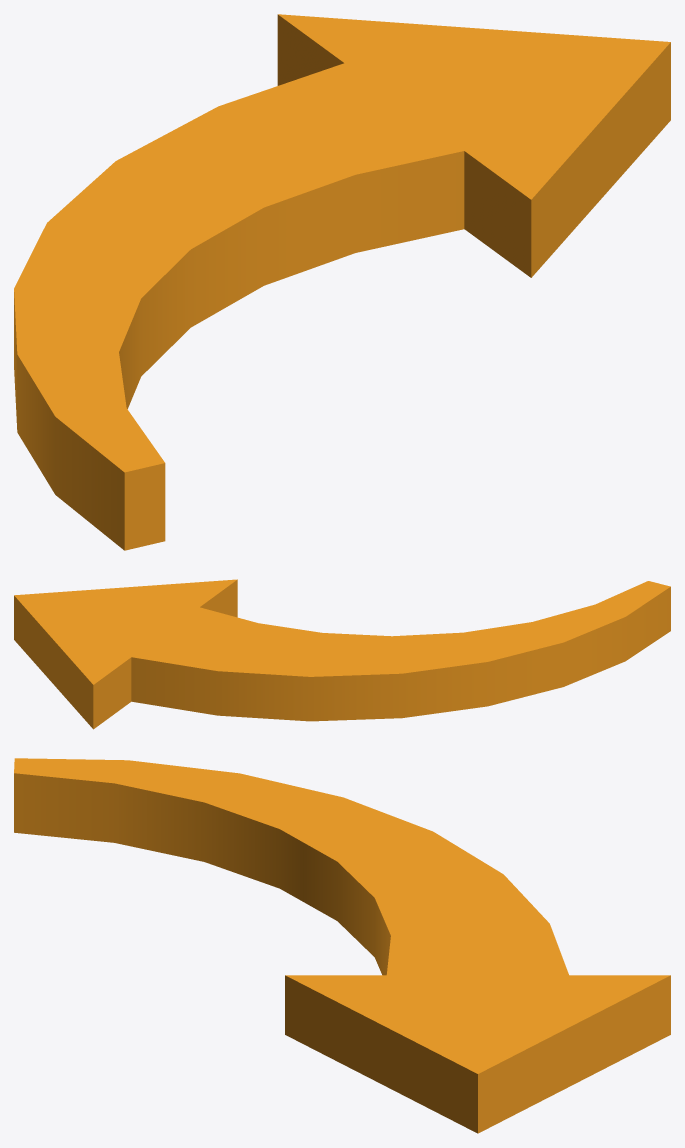
Rendered from SM_Icon_Arrow_Long_Curve_01.fbx.
3 views of the same model, one above another, from view 1: azimuth 30°, elevation 25°; view 2: azimuth 150°, elevation 25°; view 3: azimuth 270°, elevation 25° (orthographic). The views are drawn at different scales.
Parts seen in each view (by area): view 1: SM_Icon_Arrow_Long_Curve_01; view 2: SM_Icon_Arrow_Long_Curve_01; view 3: SM_Icon_Arrow_Long_Curve_01.
Boxes of the visible parts, x1,y1,x2,y2 form: SM_Icon_Arrow_Long_Curve_01: (14,14,670,550); SM_Icon_Arrow_Long_Curve_01: (14,579,670,729); SM_Icon_Arrow_Long_Curve_01: (14,758,670,1133).
Size of the model in its own units: 87.69 by 7.71 by 77.07.
